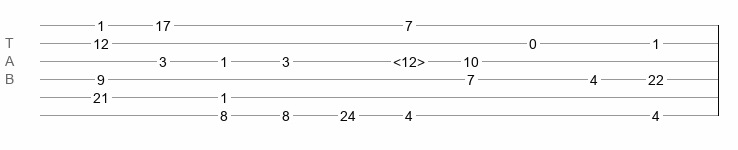0: (529, 36, 537, 46)
1: (97, 18, 105, 28), (220, 90, 228, 100), (220, 54, 228, 64), (652, 36, 660, 46)
10: (463, 54, 479, 64)
12: (93, 36, 109, 46)
17: (155, 18, 171, 28)
21: (93, 90, 109, 100)
22: (648, 72, 664, 82)
24: (340, 108, 356, 118)
3: (159, 54, 167, 64), (282, 54, 290, 64)
4: (405, 108, 413, 118), (590, 72, 598, 82), (652, 108, 660, 118)
7: (405, 18, 413, 28), (467, 72, 475, 82)
8: (220, 108, 228, 118), (282, 108, 290, 118)
9: (97, 72, 105, 82)
harmonic: (393, 54, 425, 64)
